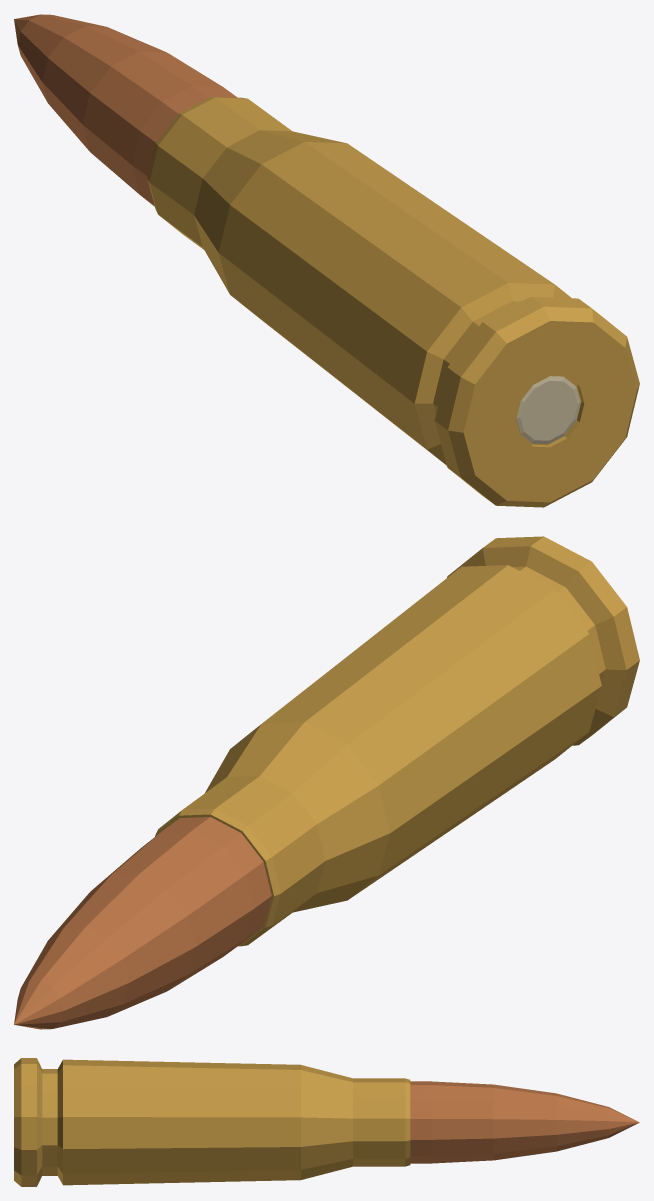
File: bullet_ak.obj
The picture shows the model from 3 angles, top to bottom: view 1: azimuth 30°, elevation 25°; view 2: azimuth 150°, elevation 25°; view 3: azimuth 270°, elevation 25°; orthographic projection. The views are drawn at different scales.
Parts seen in each view (by area): view 1: Casing, Projectile, Primer; view 2: Casing, Projectile; view 3: Casing, Projectile.
Boxes of the visible parts, x1,y1,x2,y2 form: Casing: (147, 96, 639, 507); Projectile: (14, 14, 237, 206); Primer: (516, 376, 580, 443); Casing: (155, 536, 639, 946); Projectile: (14, 817, 271, 1029); Casing: (14, 1058, 410, 1186); Projectile: (410, 1081, 639, 1163).
Size of the model in its own units: 0.0124 by 0.0124 by 0.06.
